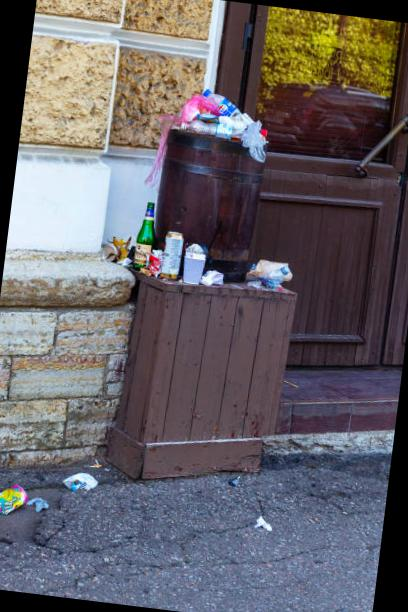trash: (152, 71, 279, 157), (97, 185, 176, 282), (176, 224, 242, 299), (234, 240, 302, 298), (150, 214, 197, 290), (62, 450, 111, 498), (0, 483, 49, 525), (246, 510, 277, 534), (222, 470, 251, 494)
trash_can_overflow: (56, 58, 360, 528)
